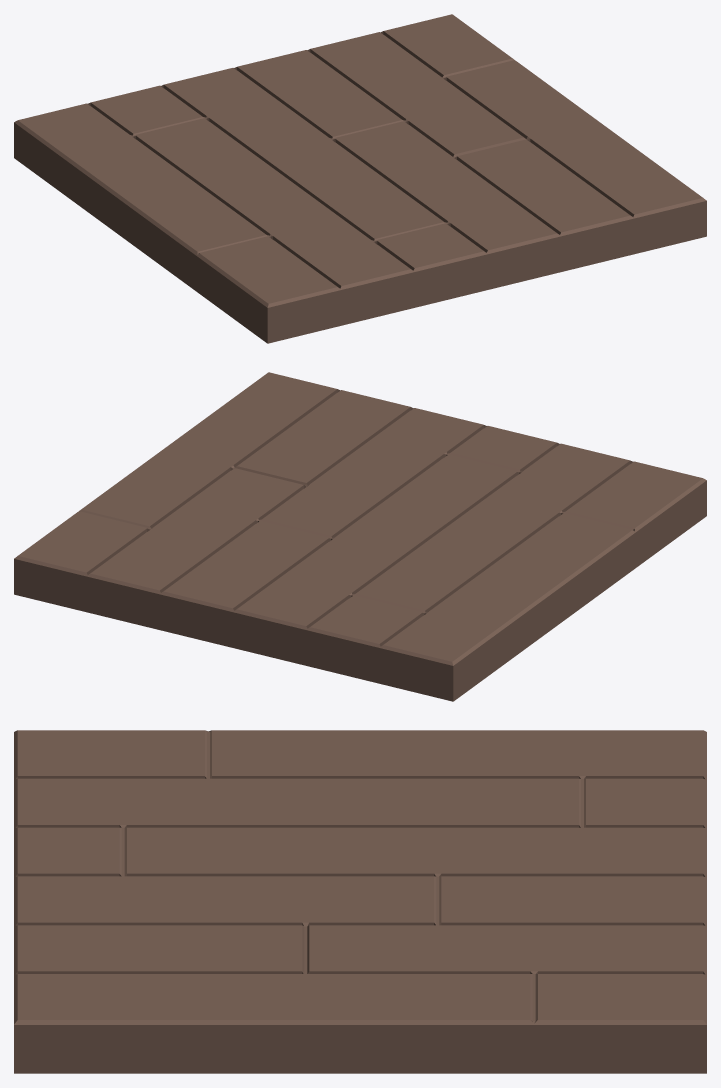
Rendered from Floor.fbx.
3 renders of one model, top to bottom at view 1: azimuth 30°, elevation 25°; view 2: azimuth 150°, elevation 25°; view 3: azimuth 270°, elevation 25°, orthographic. The views are drawn at different scales.
Visible parts, largest first — view 1: Cube.004; view 2: Cube.004; view 3: Cube.004.
Boxes of the visible parts, left/top/right/bottom form: Cube.004: left=14, top=14, right=706, bottom=343; Cube.004: left=14, top=372, right=706, bottom=701; Cube.004: left=14, top=730, right=706, bottom=1073.
Size of the model in its own units: 6 by 0.5 by 6.
